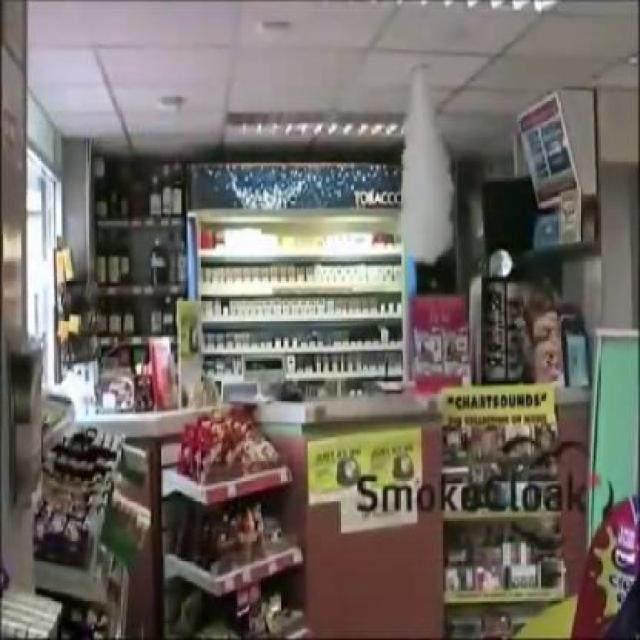fire: (390, 66, 461, 271)
